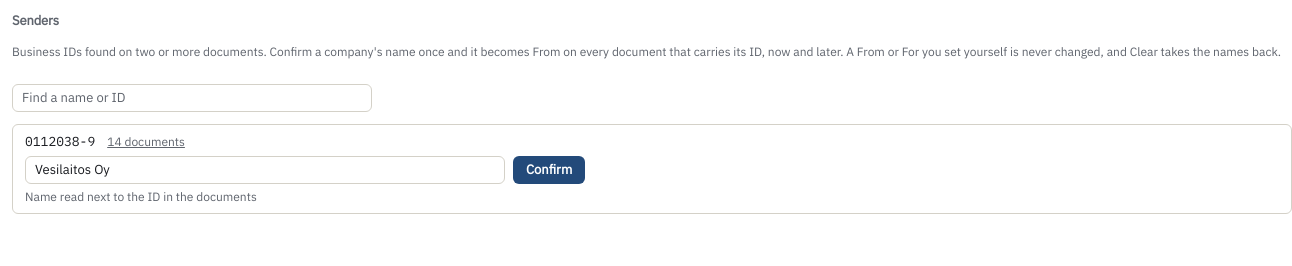
Test: SendersSettings › shows why a save failed
Click the button "Confirm" at (549, 170), box [513, 156, 585, 184]
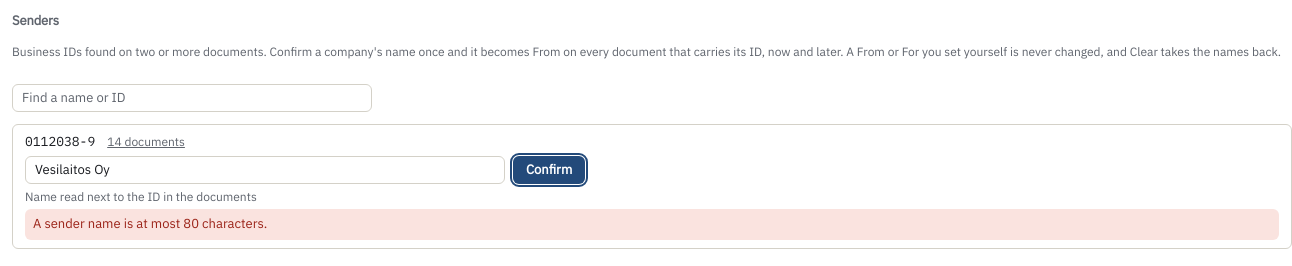
Result: the message shows "at most 80 characters" at [33, 216, 267, 232]
